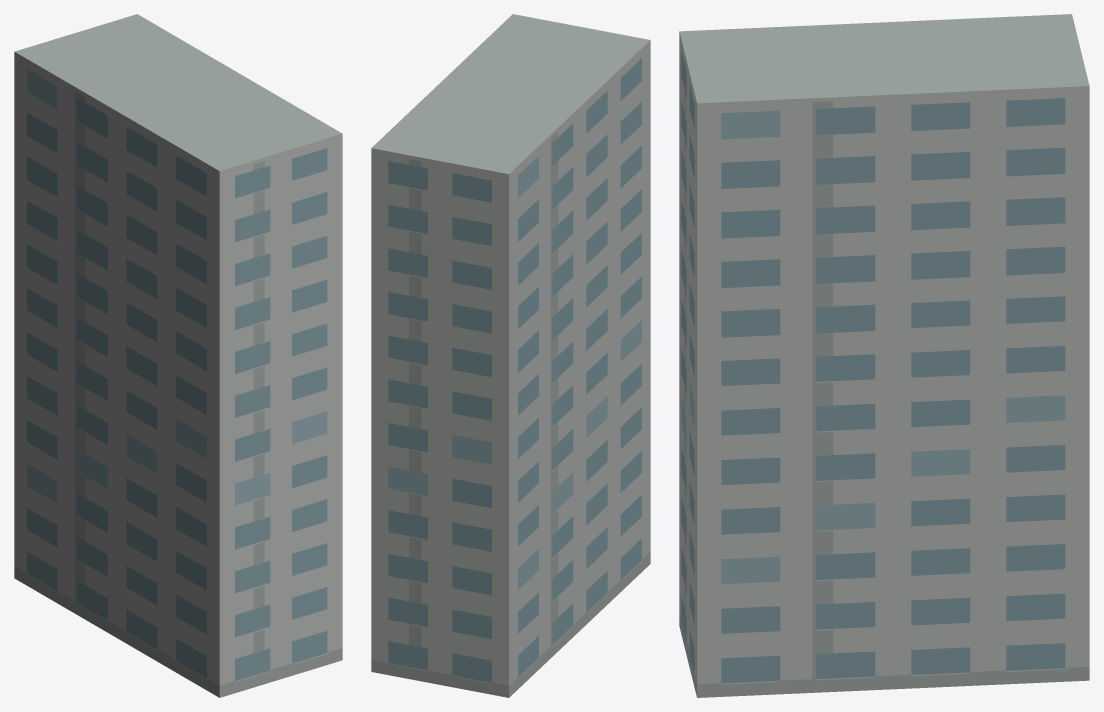
Rendered from residential-9204a028-f6af-4b72-8574-a70d9ffa31be.glb.
3 renders of one model, left to right at view 1: azimuth 30°, elevation 25°; view 2: azimuth 150°, elevation 25°; view 3: azimuth 270°, elevation 25°, orthographic. The views are drawn at different scales.
Parts seen in each view (by area): view 1: residential-9204a028-f6af-4b72-8574-a70d9ffa31be.tmp; view 2: residential-9204a028-f6af-4b72-8574-a70d9ffa31be.tmp; view 3: residential-9204a028-f6af-4b72-8574-a70d9ffa31be.tmp.
Boxes of the visible parts, x1,y1,x2,y2 form: residential-9204a028-f6af-4b72-8574-a70d9ffa31be.tmp: (14, 14, 342, 697); residential-9204a028-f6af-4b72-8574-a70d9ffa31be.tmp: (371, 14, 650, 697); residential-9204a028-f6af-4b72-8574-a70d9ffa31be.tmp: (679, 14, 1089, 697).
Bounding box in the file's own units: 11.93 × 37 × 23.14.
